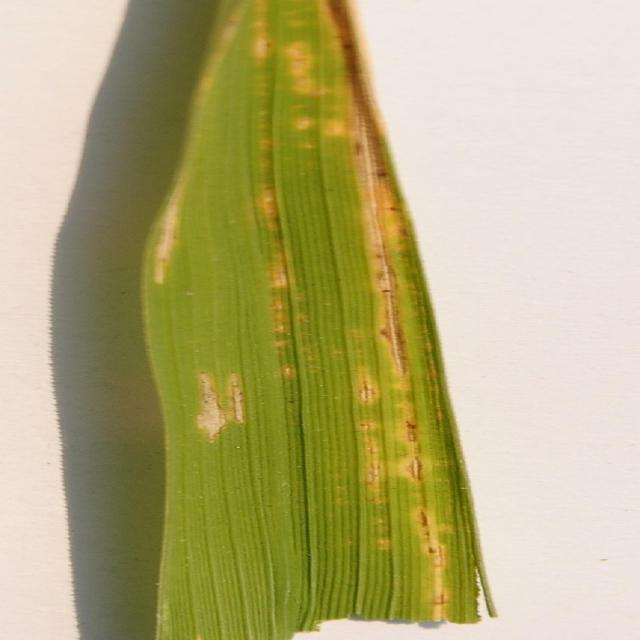leaf blight: (150, 1, 470, 624)
